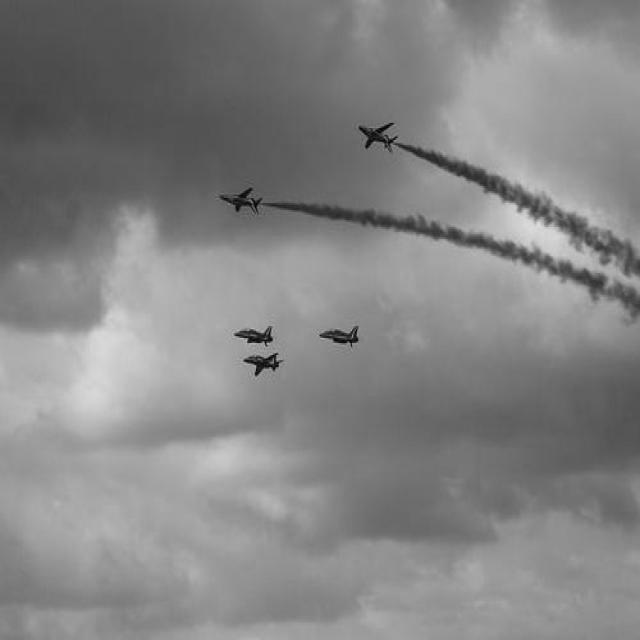aeroplane: (216, 186, 262, 216), (357, 119, 398, 152), (240, 350, 284, 376), (233, 322, 275, 347), (318, 322, 360, 347)
